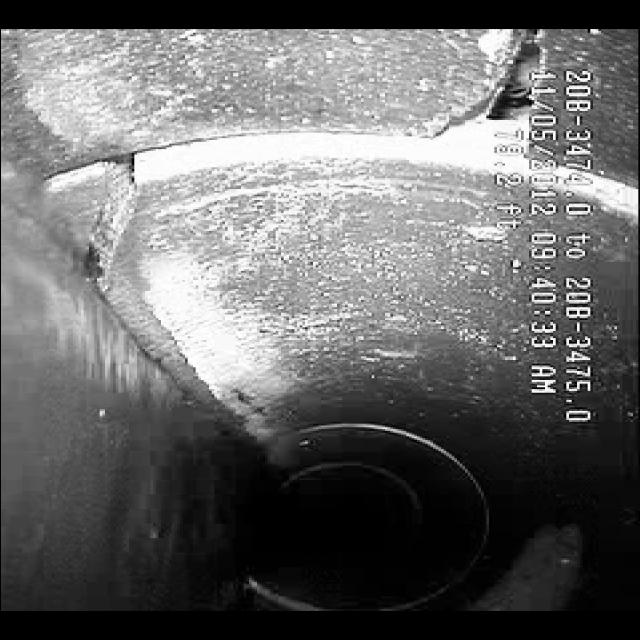Fracture: (54, 152, 200, 289), (432, 44, 578, 130)
